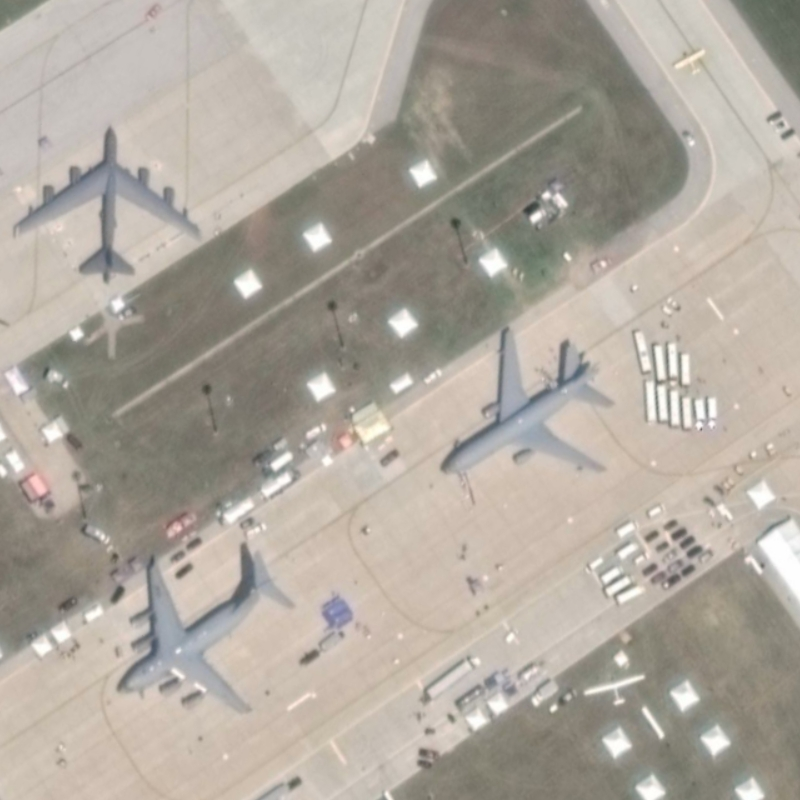A3: (99, 536, 306, 723)
A4: (432, 312, 621, 485)
A8: (3, 121, 216, 291)
